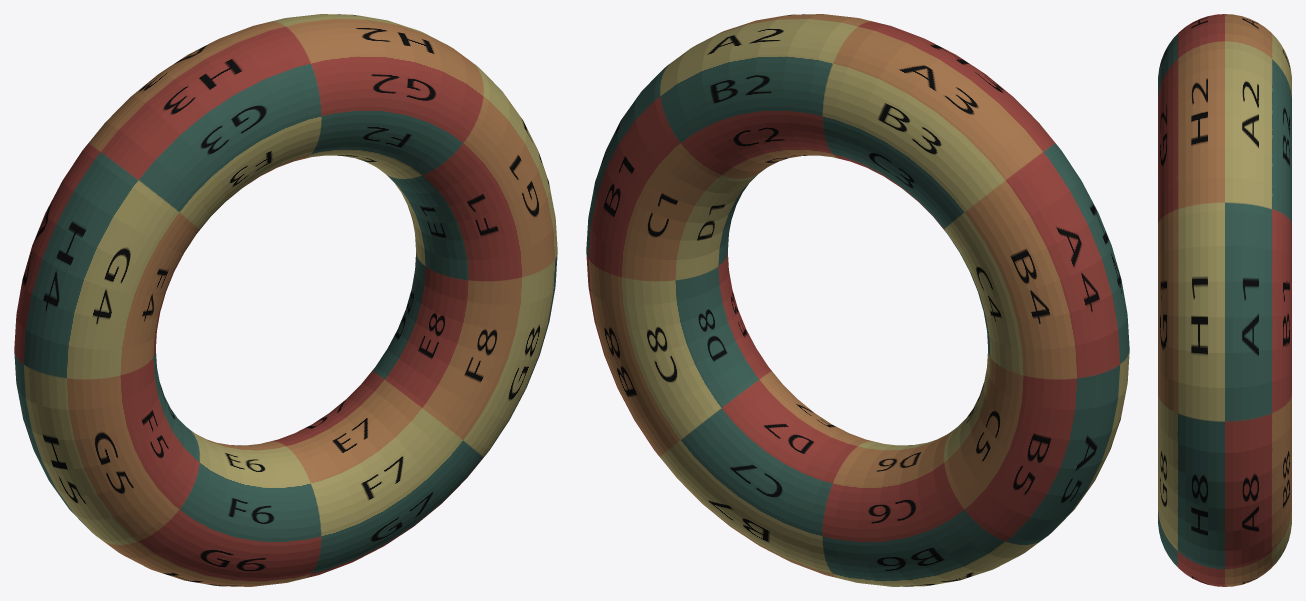
The model's file is texture_torus_R4_r7.glb.
The picture shows the model from 3 angles, left to right: view 1: azimuth 30°, elevation 25°; view 2: azimuth 150°, elevation 25°; view 3: azimuth 270°, elevation 25°; orthographic projection. The views are drawn at different scales.
Visible parts, largest first — view 1: world; view 2: world; view 3: world.
Boxes of the visible parts, x1,y1,x2,y2 form: world: [14, 14, 557, 586]; world: [586, 14, 1129, 586]; world: [1158, 14, 1291, 586].
Size of the model in its own units: 16.53 by 16.5 by 3.86.
1 material, 1 textured.
